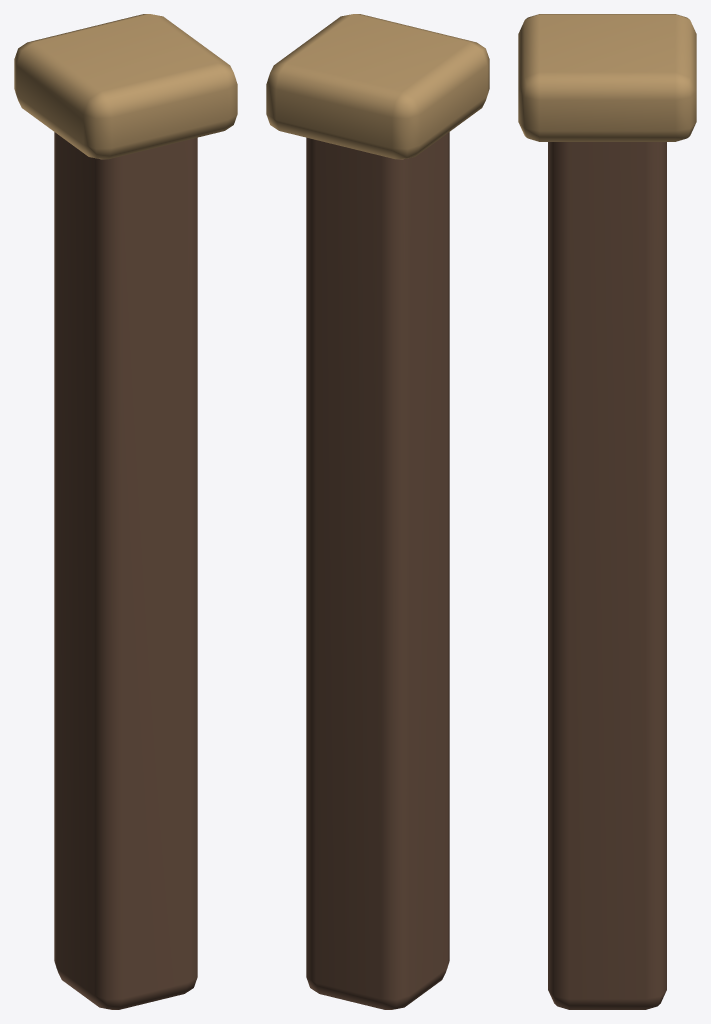
Rendered from bridge-post.glb.
3 views of the same model, side by side, from view 1: azimuth 30°, elevation 25°; view 2: azimuth 150°, elevation 25°; view 3: azimuth 270°, elevation 25° (orthographic).
Parts seen in each view (by area): view 1: bridge-post_timber, bridge-post_wood_light; view 2: bridge-post_timber, bridge-post_wood_light; view 3: bridge-post_timber, bridge-post_wood_light.
Part boxes in pixels (left/top/right/bottom): bridge-post_timber: left=54, top=132, right=197, bottom=1009; bridge-post_wood_light: left=14, top=14, right=237, bottom=159; bridge-post_timber: left=306, top=132, right=449, bottom=1009; bridge-post_wood_light: left=266, top=14, right=489, bottom=159; bridge-post_timber: left=548, top=142, right=666, bottom=1009; bridge-post_wood_light: left=518, top=14, right=696, bottom=141.
Size of the model in its own units: 0.21 by 1.23 by 0.21.
